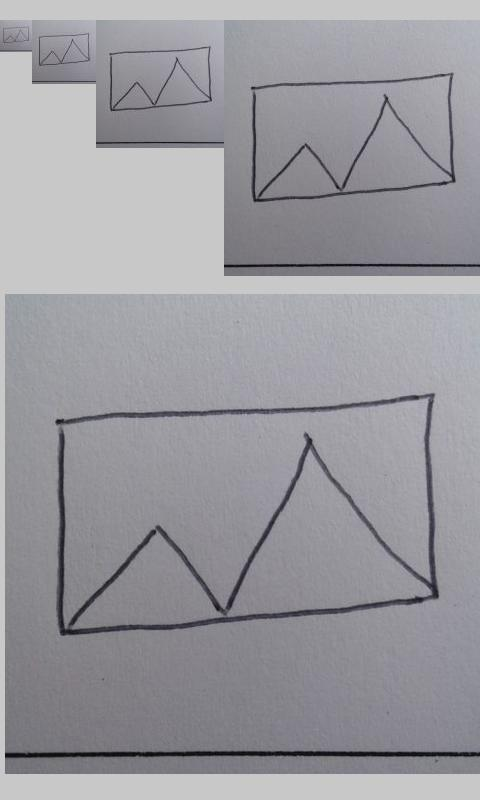image_view: (54, 392, 444, 641), (250, 70, 458, 203), (108, 45, 212, 112), (38, 32, 90, 67), (2, 26, 29, 43)
